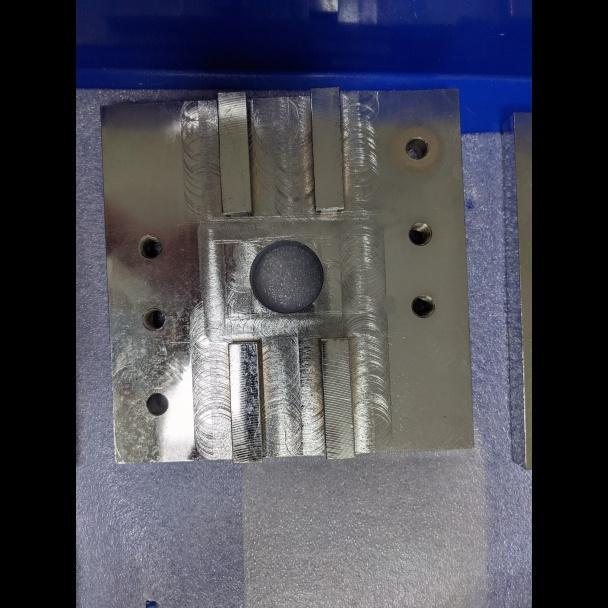hole: (136, 387, 177, 421), (397, 134, 433, 166), (131, 231, 168, 262), (404, 216, 436, 251), (407, 289, 442, 320), (137, 303, 172, 334)
